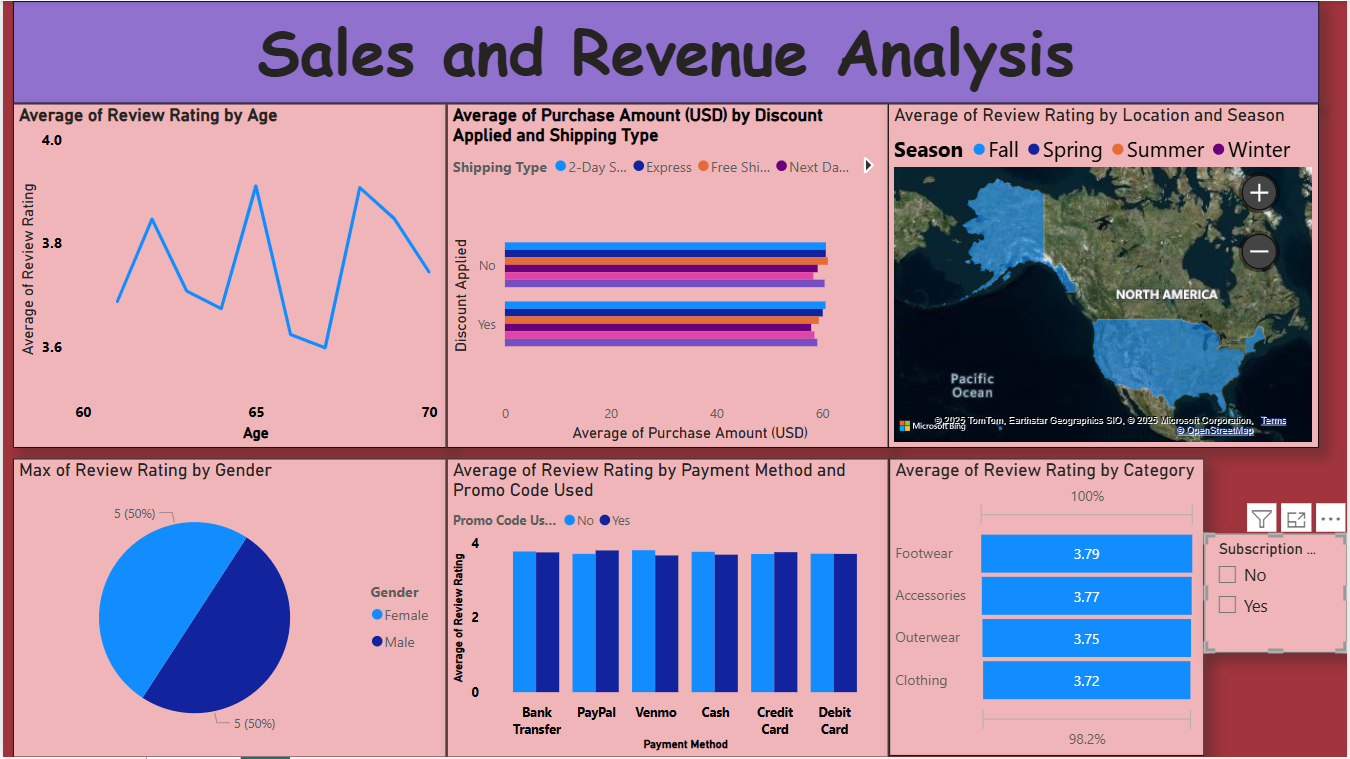

What the dashboard file says about the page in this screenshot:
{"tool":"powerbi","page":{"name":"Page 1","canvas":[1280,720],"ordinal":0},"visuals":[{"type":"textbox","box":[9.7,0,1243.8,97.7],"z":0},{"type":"lineChart","fields":{"Y":["Avg(shopping_trends.Review Rating)"],"Category":["shopping_trends.Age"]},"box":[9.7,97.7,412.6,328.2],"z":1000},{"type":"pieChart","fields":{"Y":["Max(shopping_trends.Review Rating)"],"Category":["shopping_trends.Gender"]},"box":[9.7,435.5,412.6,284.7],"z":2000},{"type":"clusteredBarChart","fields":{"Y":["Avg(shopping_trends.Purchase Amount (USD))"],"Category":["shopping_trends.Discount Applied"],"Series":["shopping_trends.Shipping Type"]},"box":[422.3,97.7,421,328.2],"z":3000},{"type":"clusteredColumnChart","fields":{"Y":["Avg(shopping_trends.Review Rating)"],"Category":["shopping_trends.Payment Method"],"Series":["shopping_trends.Promo Code Used"]},"box":[422.3,435.5,421,284.7],"z":4000},{"type":"filledMap","fields":{"Series":["shopping_trends.Season"],"Category":["shopping_trends.Location"]},"box":[843.3,97.7,410.2,328.2],"z":5000},{"type":"slicer","fields":{"Values":["shopping_trends.Subscription Status"]},"box":[1143.7,506.7,136.3,113.4],"z":6000},{"type":"funnel","fields":{"Y":["Avg(shopping_trends.Review Rating)"],"Category":["shopping_trends.Category"]},"box":[844.1,435.7,300,283.3],"z":7000}]}

Visuals, with their boxes in screenshot pixels (x1, y1, x2, y2), scaled from the page's 1280x720 canvas onto the 1350x759 screenshot:
textbox: detection(10, 0, 1322, 103)
lineChart - Avg(shopping_trends.Review Rating) x shopping_trends.Age: detection(10, 103, 445, 449)
pieChart - Max(shopping_trends.Review Rating) x shopping_trends.Gender: detection(10, 459, 445, 758)
clusteredBarChart - Avg(shopping_trends.Purchase Amount (USD)) x shopping_trends.Discount Applied: detection(445, 103, 889, 449)
clusteredColumnChart - Avg(shopping_trends.Review Rating) x shopping_trends.Payment Method: detection(445, 459, 889, 758)
filledMap - shopping_trends.Season x shopping_trends.Location: detection(889, 103, 1322, 449)
slicer - shopping_trends.Subscription Status: detection(1206, 534, 1349, 654)
funnel - Avg(shopping_trends.Review Rating) x shopping_trends.Category: detection(890, 459, 1207, 758)
